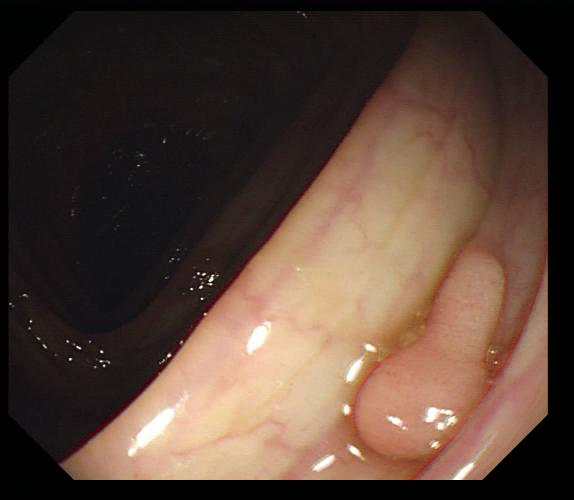polyp: (353, 250, 507, 464)
